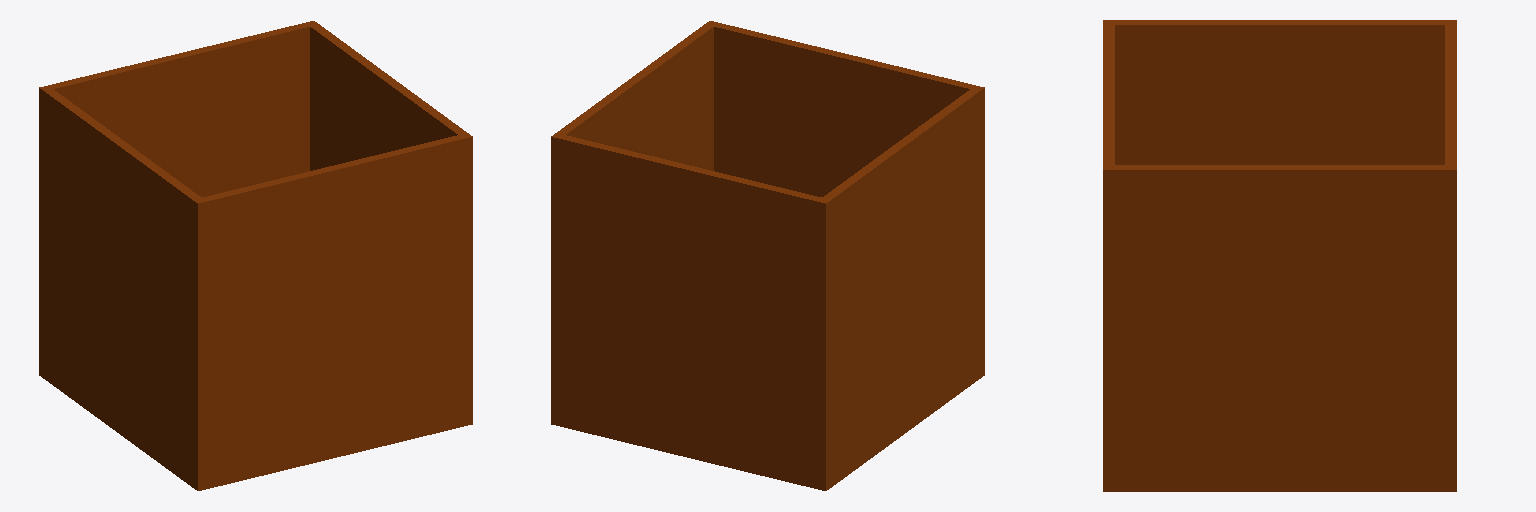
robot.urdf — container.urdf:
<?xml version="0.0" ?>
<robot name="container.urdf">
  <link name="baseLink">
    <contact>
      <lateral_friction value="1.0"/>
      <inertia_scaling value="3.0"/>
    </contact>
    <inertial>
      <origin rpy="0 0 0" xyz="0 0 0"/>
       <mass value=".2"/>
       <inertia ixx="0.1" ixy="0" ixz="0" iyy="0.1" iyz="0" izz="0.1"/>
    </inertial>
    <visual>
      <origin rpy="0 0 0" xyz="0 0 0"/>
      <geometry>
        <mesh filename="container.stl" scale="1 1 1"/>
      </geometry>
      <material name="brown">
        <color rgba="0.55 0.27 0.07 0.5"/>
        <texture filename="[local-path]/uncertainty/simulation/assets/coke.jpg"/>
      </material>
    </visual>
    <collision>
      <origin rpy="0 0 0" xyz="0 0 0"/>
      <geometry>
	 	<box size="0.3 0.3 0.3"/>
      </geometry>
    </collision>
  </link>
</robot>

--- Facts derived from the render (not from the file) ---
3 views of the same robot in one strip: view 1: azimuth 30°, elevation 25°; view 2: azimuth 150°, elevation 25°; view 3: azimuth 270°, elevation 25° (orthographic).
Robot: container.urdf — 1 links, 0 joints (none); root link baseLink; default pose: every joint at zero.
Links seen in each view (by area): view 1: baseLink; view 2: baseLink; view 3: baseLink.
Link boxes in pixels (x1,y1,x2,y2): baseLink: [39, 21, 472, 490]; baseLink: [551, 21, 984, 490]; baseLink: [1103, 20, 1456, 491].
Size in the robot's own frame: 0.3 by 0.3 by 0.3 metres.
Meshes: 1 distinct files referenced, 1 mesh visuals loaded (1 binary STL).